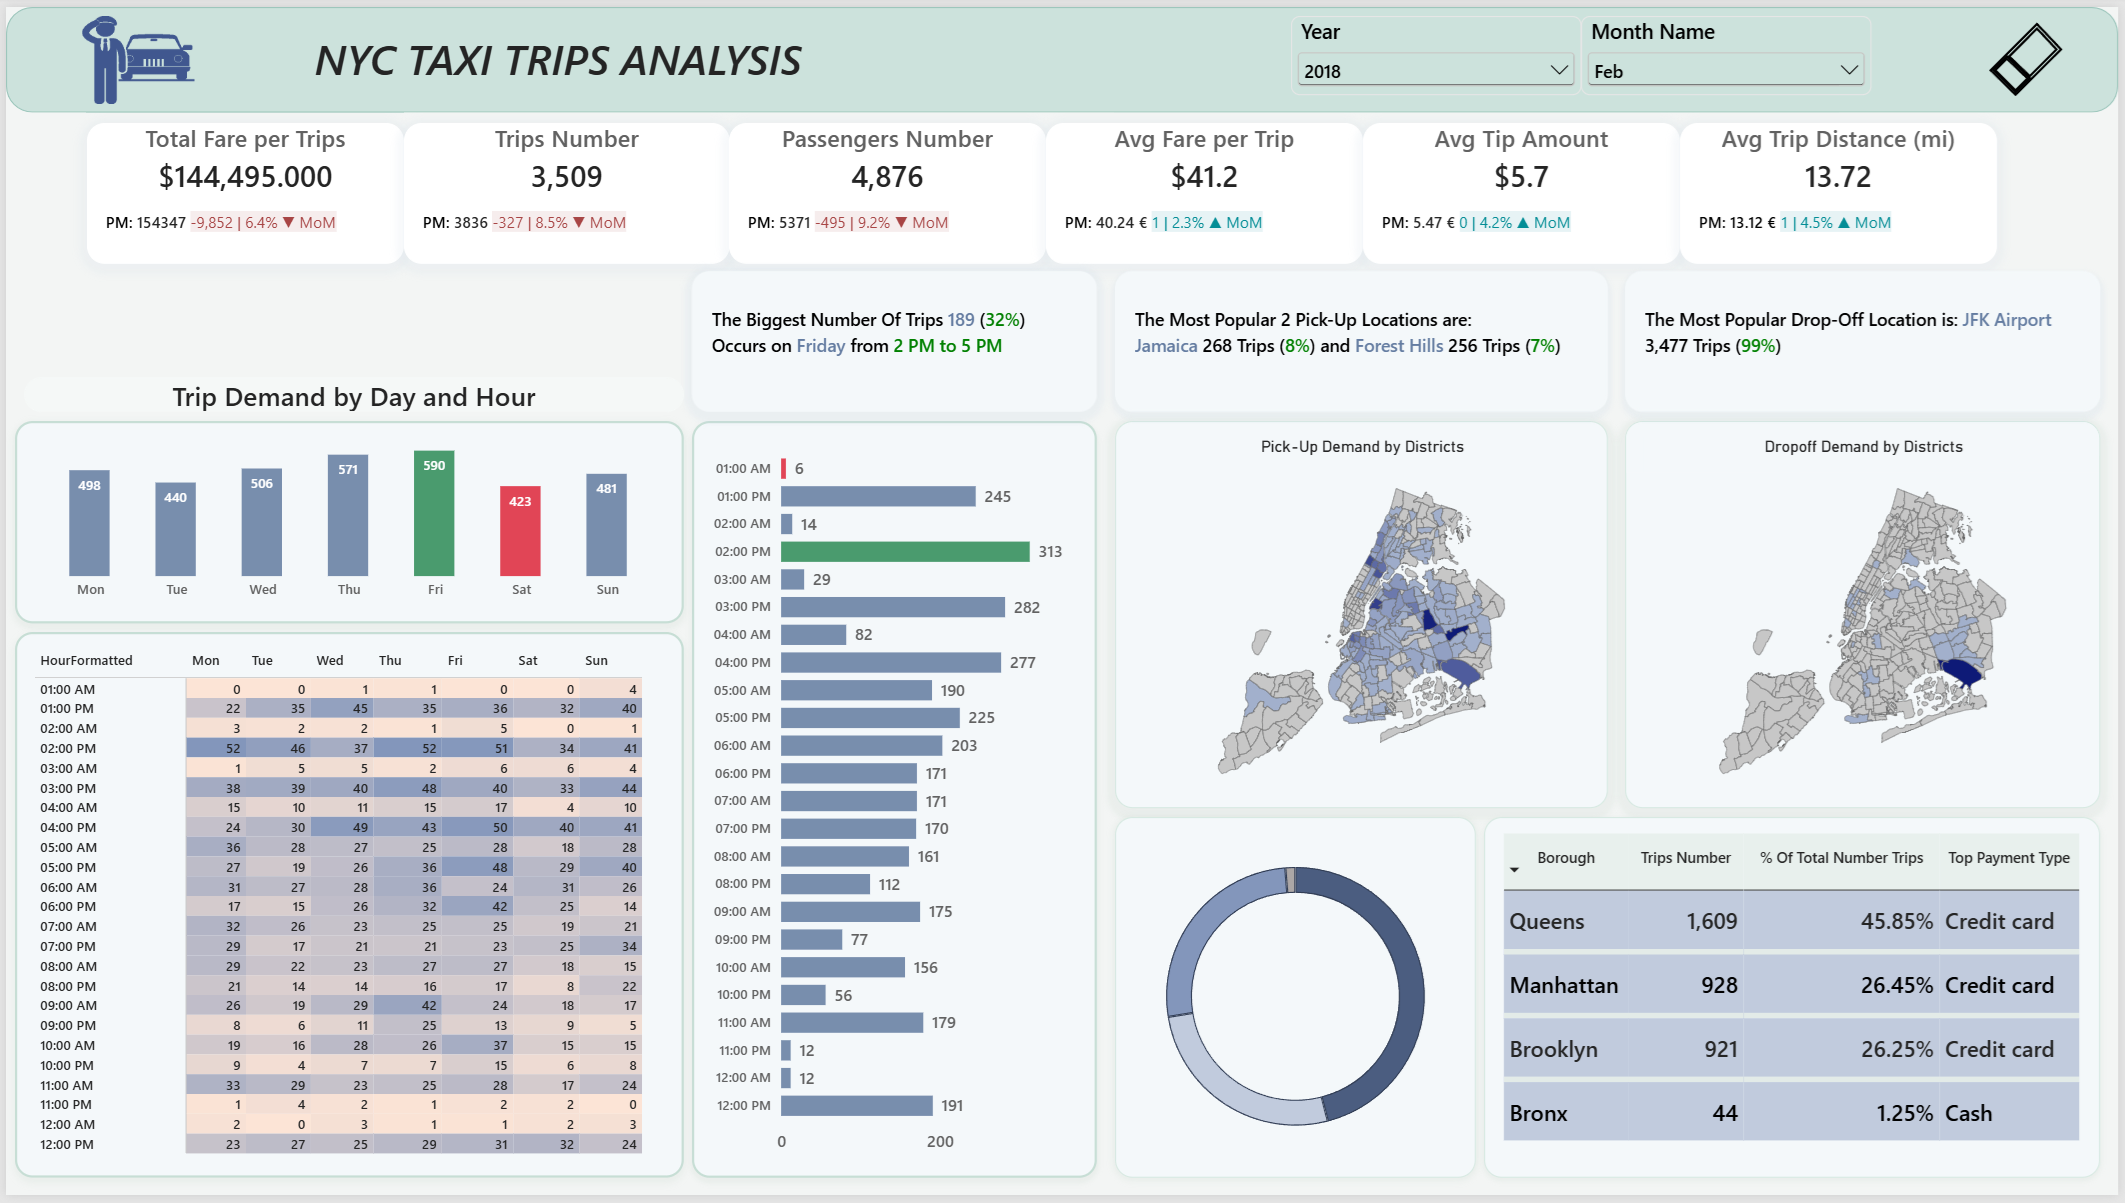

The dashboard page shown, as its layout file describes it:
{"tool":"powerbi","page":{"name":"New York Taxi","canvas":[1920,1080],"ordinal":0},"visuals":[{"type":"shape","box":[0,0,1920,96],"z":0},{"type":"slicer","fields":{"Values":["Dim Date.Year"]},"box":[1168,8,264,72],"z":1000},{"type":"slicer","fields":{"Values":["Dim Date.Month Name"]},"box":[1432,8,264,72],"z":2000},{"type":"cardVisual","fields":{"Data":["_Measures.Total Fare per Trips"]},"box":[73.5,105.1,288,128],"z":3000},{"type":"cardVisual","fields":{"Data":["_Measures.Trips Num"]},"box":[361.5,105.1,296,128],"z":4000},{"type":"cardVisual","fields":{"Data":["_Measures.Passengers Num"]},"box":[657.5,105.1,288,128],"z":5000},{"type":"cardVisual","fields":{"Data":["_Measures.AVG Fare per Trip"]},"box":[945.5,105.1,288,128],"z":6000},{"type":"cardVisual","fields":{"Data":["_Measures.Avg Tip Amount"]},"box":[1233.5,105.1,288,128],"z":7000},{"type":"cardVisual","fields":{"Data":["_Measures.Avg Trip Distance"]},"box":[1521.5,105.1,288,128],"z":8000},{"type":"shapeMap","title":"Pick-Up Demand by Districts","fields":{"Category":["TaxiZones.Zone"],"Value":["_Measures.Trips Number"]},"box":[1008,376,448,352],"z":9000},{"type":"shapeMap","title":" Dropoff  Demand by Districts","fields":{"Category":["TaxiZones.Zone"],"Value":["_Measures.Trips Number Dropoff Location"]},"box":[1472,376,432,352],"z":10000},{"type":"tableEx","fields":{"Values":["TaxiZones.Borough","_Measures.Trips Number","_Measures.% Of Total Number Trips","_Measures.Top Payment Type"]},"box":[1344,736,560,328],"z":11000},{"type":"textbox","box":[384,760,168,40],"z":12000},{"type":"textbox","box":[384,800,168,48],"z":13000},{"type":"textbox","box":[384,848,168,40],"z":14000},{"type":"donutChart","fields":{"Category":["TaxiZones.Borough"],"Y":["_Measures.Trips Number"]},"box":[1008,736,328,328],"z":15000},{"type":"pivotTable","fields":{"Columns":["Dim Date.Week Day"],"Rows":["HourTable.HourFormatted"],"Values":["_Measures.Trip Num for Martix (No Blanks)"]},"box":[8,568,608,496],"z":16000},{"type":"clusteredBarChart","fields":{"Category":["HourTable.HourFormatted"],"Y":["_Measures.Trip Num for Martix (No Blanks)"]},"box":[624,376,368,688],"z":17000},{"type":"clusteredColumnChart","fields":{"Category":["Dim Date.Week Day"],"Y":["_Measures.Trip Num for Martix (No Blanks)"]},"box":[8,376,608,184],"z":18000},{"type":"htmlContent443BE3AD55E043BF878BED274D3A6865","title":"Number of Trips by Days of Week and Time","fields":{"content":["_Measures.Trips Number Summary HTML"]},"box":[624,240,368,128],"z":19000},{"type":"htmlContent443BE3AD55E043BF878BED274D3A6865","fields":{"content":["_Measures.Top 2 Pick Up Zones HTML with %"]},"box":[1008,240,448,128],"z":20000},{"type":"htmlContent443BE3AD55E043BF878BED274D3A6865","fields":{"content":["_Measures.Top 1 Drop-Off Zone HTML with %"]},"box":[1472,240,432,128],"z":21000},{"type":"actionButton","box":[1776,8,120,80],"z":22000},{"type":"image","box":[16,8,208,80],"z":23000},{"type":"textbox","box":[250,22,504,53],"z":24000},{"type":"cardVisual","fields":{"Data":["_Measures.Trip Demand by Day and Hour"]},"box":[16,336,600,32],"z":24001}]}

Visuals, with their boxes in screenshot pixels (x1, y1, x2, y2), scaled from the page's 1920x1080 canvas onto the 2125x1203 screenshot:
shape: {"left": 0, "top": 0, "right": 2124, "bottom": 107}
slicer - Dim Date.Year: {"left": 1293, "top": 9, "right": 1585, "bottom": 89}
slicer - Dim Date.Month Name: {"left": 1585, "top": 9, "right": 1877, "bottom": 89}
cardVisual - _Measures.Total Fare per Trips: {"left": 81, "top": 117, "right": 400, "bottom": 260}
cardVisual - _Measures.Trips Num: {"left": 400, "top": 117, "right": 728, "bottom": 260}
cardVisual - _Measures.Passengers Num: {"left": 728, "top": 117, "right": 1046, "bottom": 260}
cardVisual - _Measures.AVG Fare per Trip: {"left": 1046, "top": 117, "right": 1365, "bottom": 260}
cardVisual - _Measures.Avg Tip Amount: {"left": 1365, "top": 117, "right": 1684, "bottom": 260}
cardVisual - _Measures.Avg Trip Distance: {"left": 1684, "top": 117, "right": 2003, "bottom": 260}
"Pick-Up Demand by Districts" shapeMap: {"left": 1116, "top": 419, "right": 1611, "bottom": 811}
" Dropoff  Demand by Districts" shapeMap: {"left": 1629, "top": 419, "right": 2107, "bottom": 811}
tableEx - TaxiZones.Borough x _Measures.Trips Number: {"left": 1488, "top": 820, "right": 2107, "bottom": 1185}
textbox: {"left": 425, "top": 847, "right": 611, "bottom": 891}
textbox: {"left": 425, "top": 891, "right": 611, "bottom": 945}
textbox: {"left": 425, "top": 945, "right": 611, "bottom": 989}
donutChart - TaxiZones.Borough x _Measures.Trips Number: {"left": 1116, "top": 820, "right": 1479, "bottom": 1185}
pivotTable - Dim Date.Week Day x HourTable.HourFormatted: {"left": 9, "top": 633, "right": 682, "bottom": 1185}
clusteredBarChart - HourTable.HourFormatted x _Measures.Trip Num for Martix (No Blanks): {"left": 691, "top": 419, "right": 1098, "bottom": 1185}
clusteredColumnChart - Dim Date.Week Day x _Measures.Trip Num for Martix (No Blanks): {"left": 9, "top": 419, "right": 682, "bottom": 624}
"Number of Trips by Days of Week and Time" htmlContent443BE3AD55E043BF878BED274D3A6865: {"left": 691, "top": 267, "right": 1098, "bottom": 410}
htmlContent443BE3AD55E043BF878BED274D3A6865 - _Measures.Top 2 Pick Up Zones HTML with %: {"left": 1116, "top": 267, "right": 1611, "bottom": 410}
htmlContent443BE3AD55E043BF878BED274D3A6865 - _Measures.Top 1 Drop-Off Zone HTML with %: {"left": 1629, "top": 267, "right": 2107, "bottom": 410}
actionButton: {"left": 1966, "top": 9, "right": 2098, "bottom": 98}
image: {"left": 18, "top": 9, "right": 248, "bottom": 98}
textbox: {"left": 277, "top": 25, "right": 835, "bottom": 84}
cardVisual - _Measures.Trip Demand by Day and Hour: {"left": 18, "top": 374, "right": 682, "bottom": 410}
